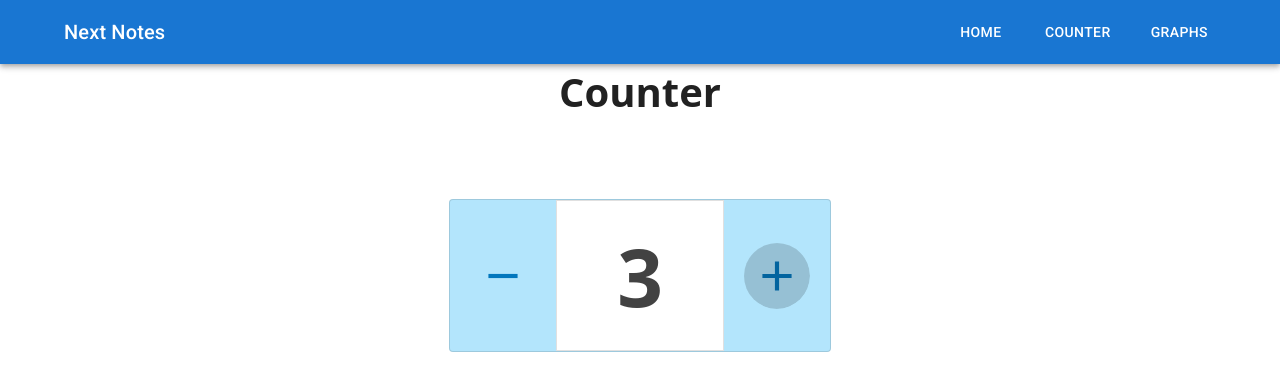
Test: Counter Page Tests › Should decrement count when the - button is clicked
The image size is (1280, 369).
Expected: the heading with test id "count" reads "3", [617,221,663,330]
// Click the decrement button x 4
Step 1. Click the button with test id "decrement-button" → (503, 276), box [470,243,536,309]
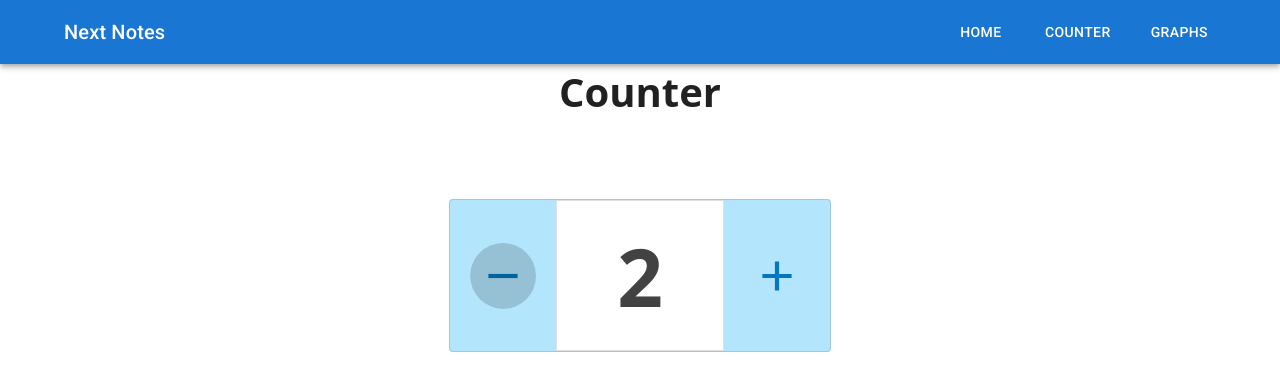
Step 2. Click the button with test id "decrement-button" → (503, 276), box [470,243,536,309]
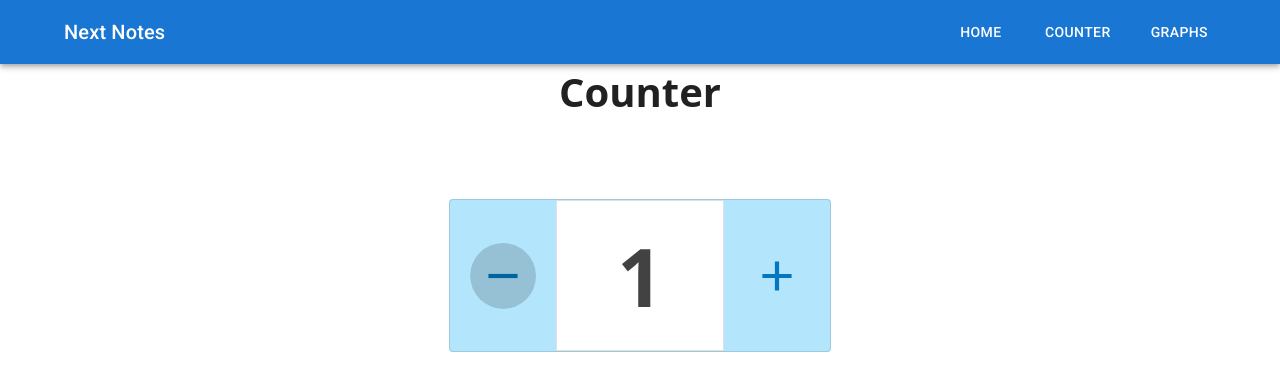
Step 3. Click the button with test id "decrement-button" → (503, 276), box [470,243,536,309]
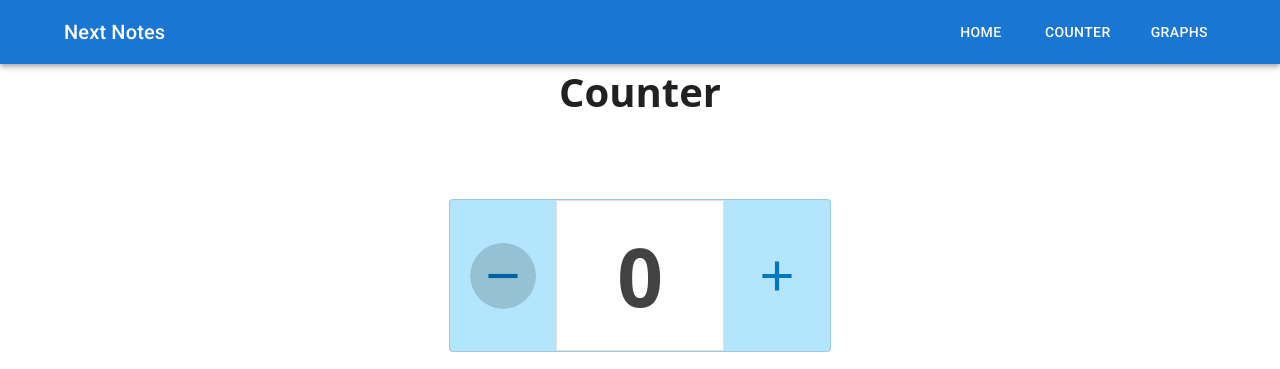
Step 4. Click the button with test id "decrement-button" → (503, 276), box [470,243,536,309]
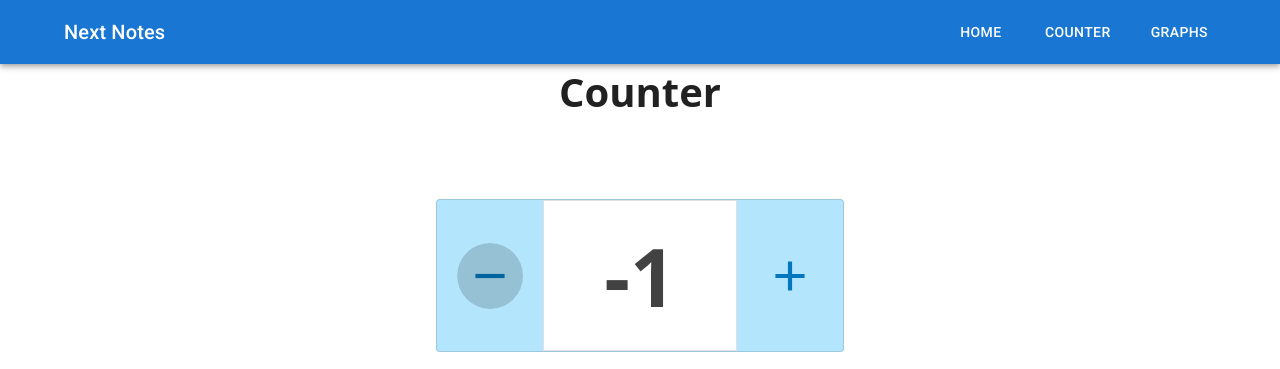
Expected: the heading with test id "count" reads "-1", [604,221,675,330]
